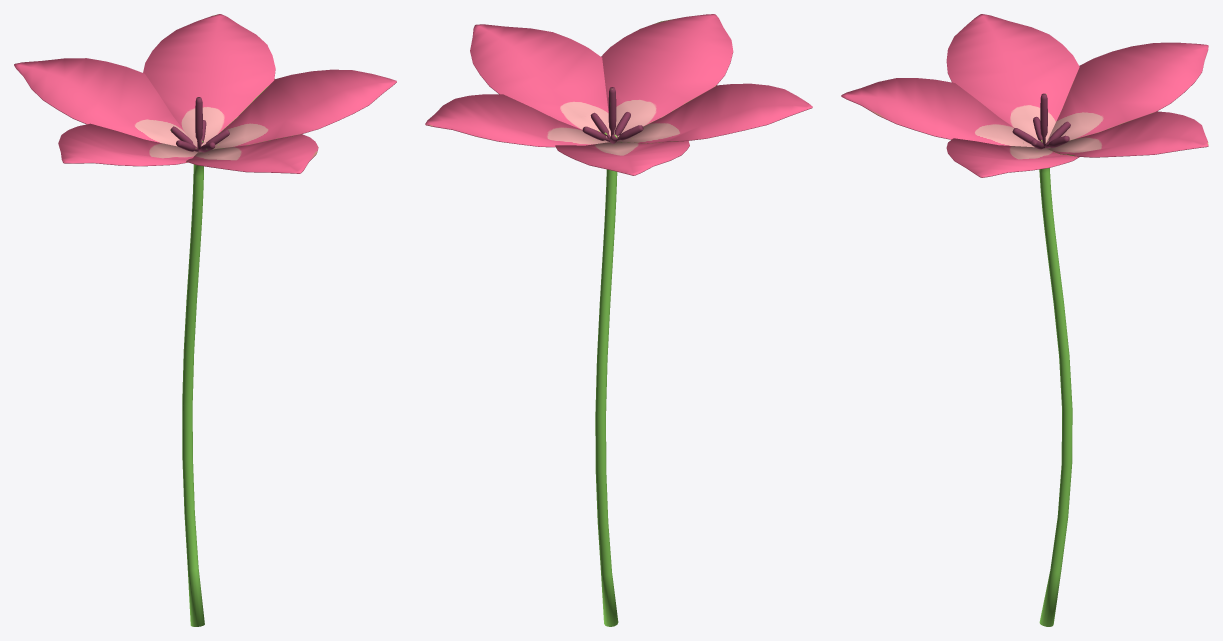
File: Flor5.fbx
The picture shows the model from 3 angles, left to right: view 1: azimuth 30°, elevation 25°; view 2: azimuth 150°, elevation 25°; view 3: azimuth 270°, elevation 25°; orthographic projection.
Visible parts, largest first — view 1: Circle; view 2: Circle; view 3: Circle.
Part boxes in pixels (left/top/right/bottom): Circle: left=14, top=14, right=396, bottom=626; Circle: left=425, top=14, right=812, bottom=626; Circle: left=841, top=14, right=1208, bottom=626.
Bounding box in the file's own units: 439 × 665 × 418.
Materials: 1 (1 with a texture image).
